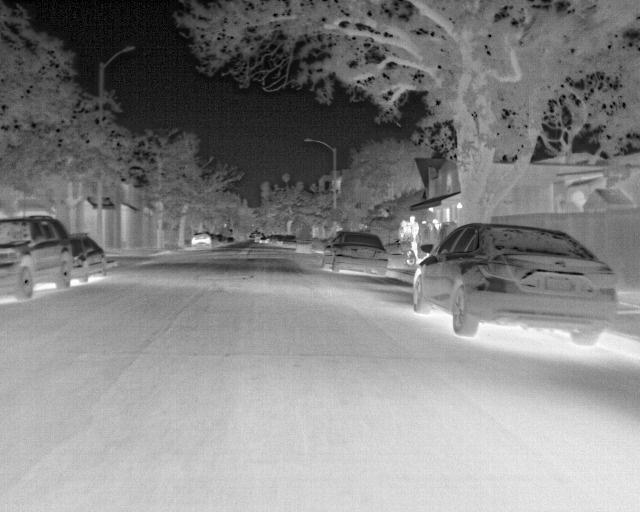bicycle: (411, 222, 622, 348), (0, 214, 71, 302), (321, 229, 390, 278), (67, 234, 105, 285), (188, 230, 214, 248), (281, 234, 298, 250)
empty: (405, 216, 421, 266)
